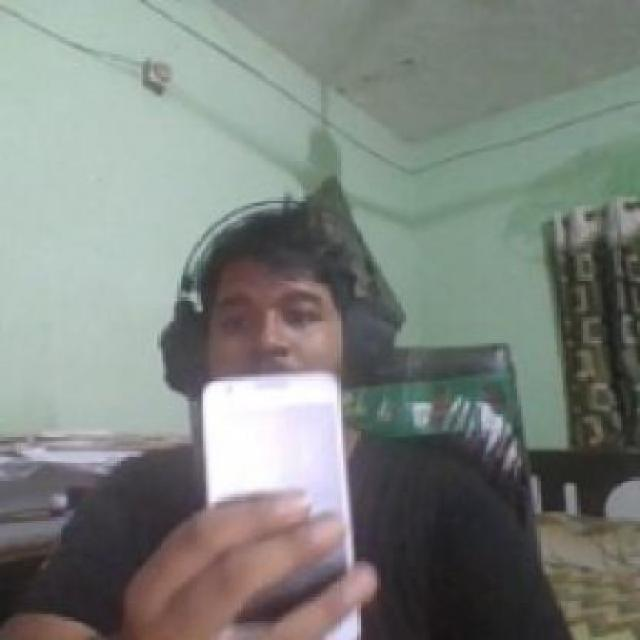Phone: (198, 370, 360, 630)
